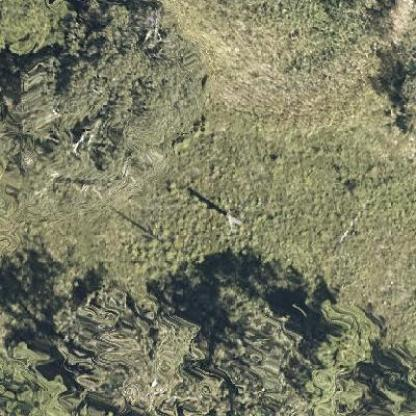tree-top: (55, 281, 191, 412), (208, 280, 305, 412)
